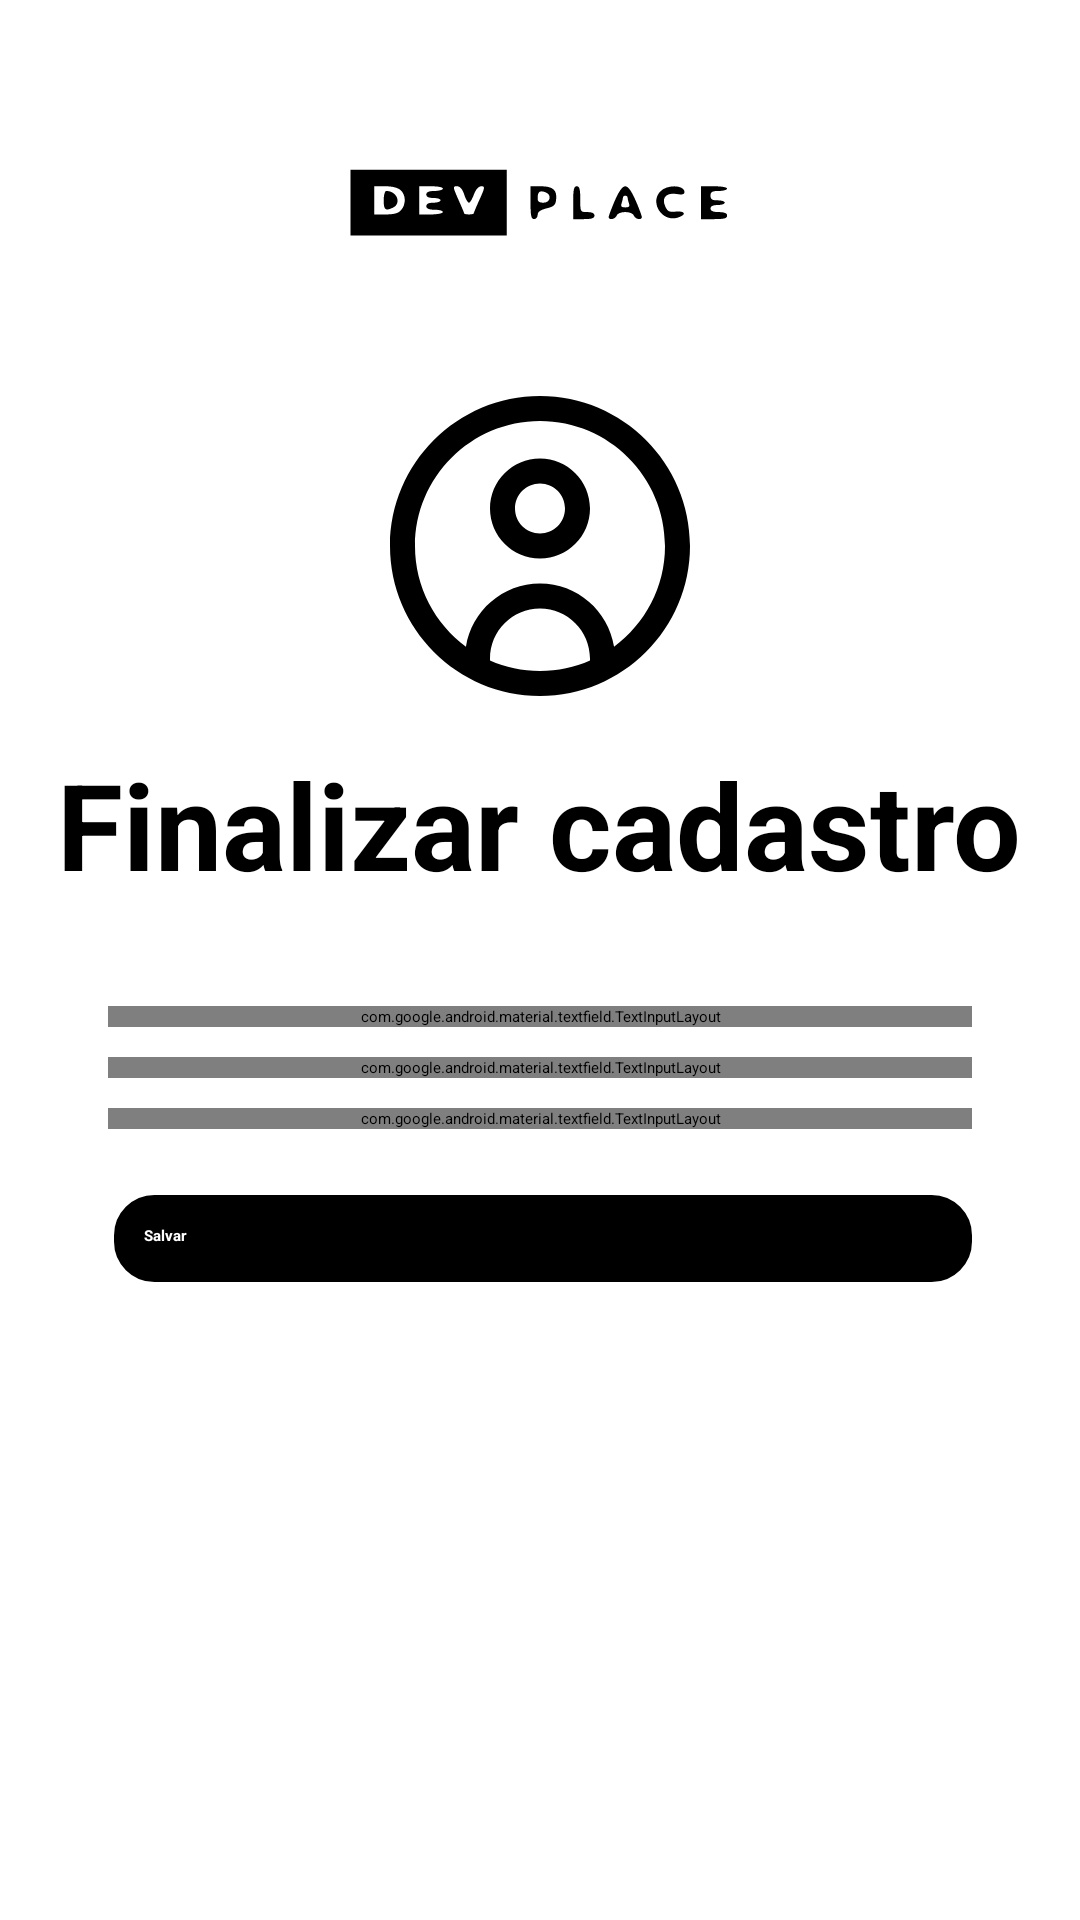

Named icons in this screenshot (1080×1920) and their centers, point (x, y):
user: point (540, 546)
